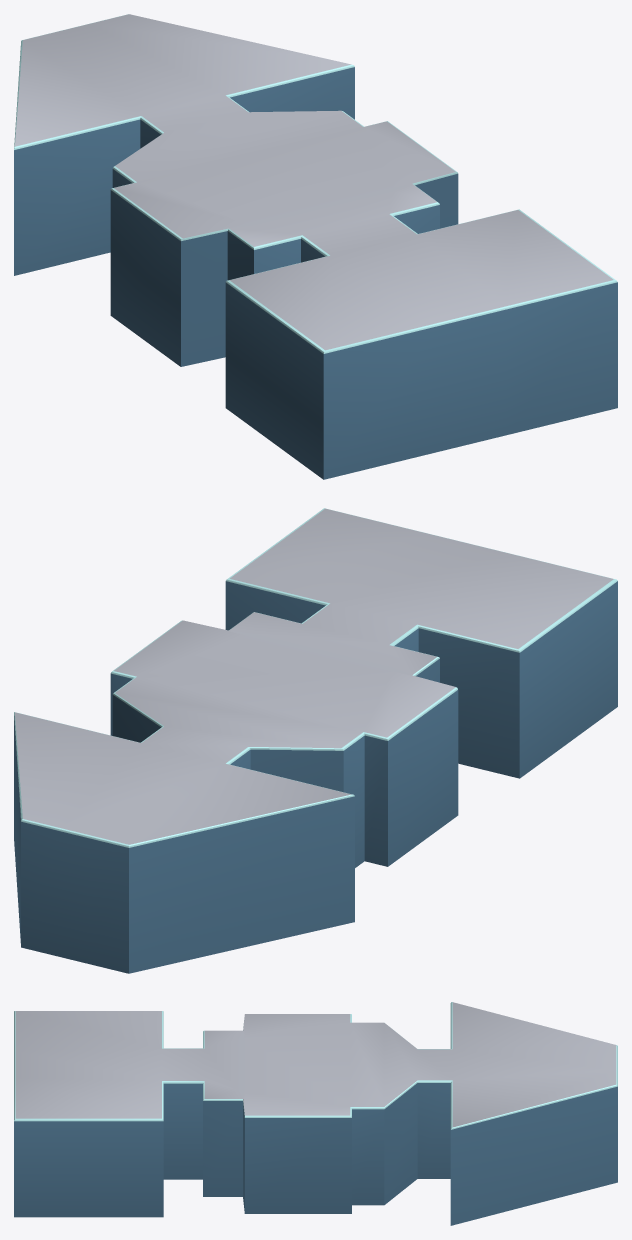
File: Lvl2.fbx
3 renders of one model, top to bottom at view 1: azimuth 30°, elevation 25°; view 2: azimuth 150°, elevation 25°; view 3: azimuth 270°, elevation 25°, orthographic. The views are drawn at different scales.
Visible parts, largest first — view 1: lvl2; view 2: lvl2; view 3: lvl2.
Part boxes in pixels (left/top/right/bottom): lvl2: left=14, top=14, right=617, bottom=479; lvl2: left=14, top=508, right=617, bottom=973; lvl2: left=14, top=1002, right=617, bottom=1225.
Bounding box in the file's own units: 3966 × 1421 × 7971.
